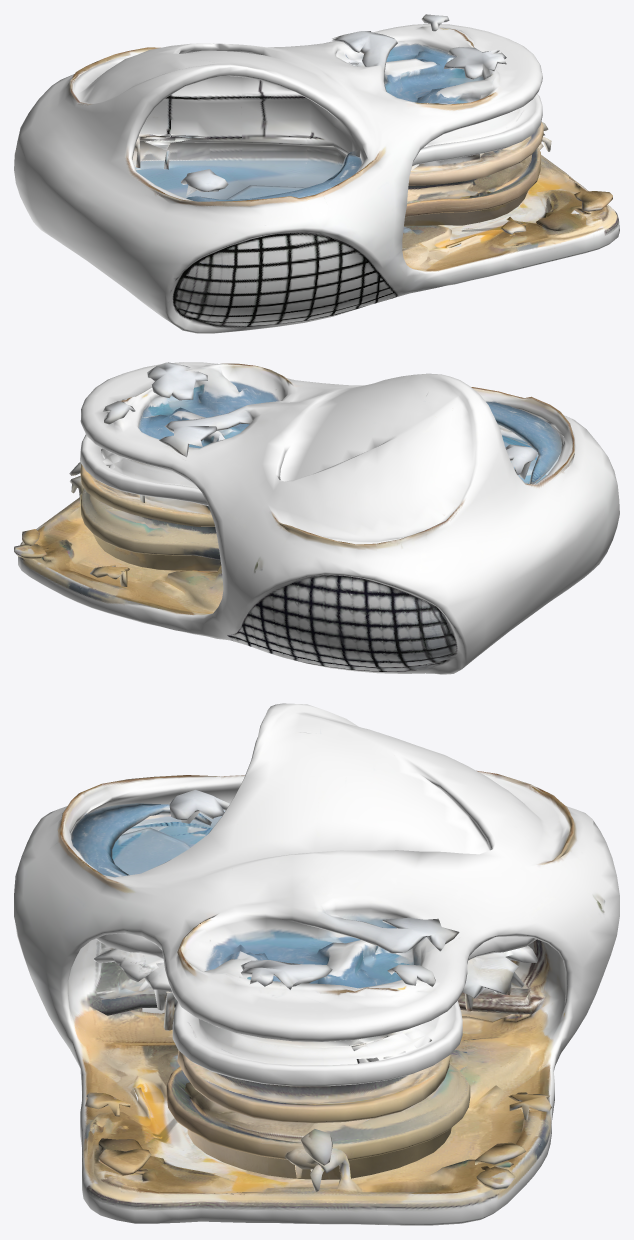
The model's file is futuristic-building-c.glb.
The picture shows the model from 3 angles, top to bottom: view 1: azimuth 30°, elevation 25°; view 2: azimuth 150°, elevation 25°; view 3: azimuth 270°, elevation 25°; orthographic projection. The views are drawn at different scales.
Bounding box in the file's own units: 1.9 × 0.8258 × 1.57.
1 material, 1 textured.
